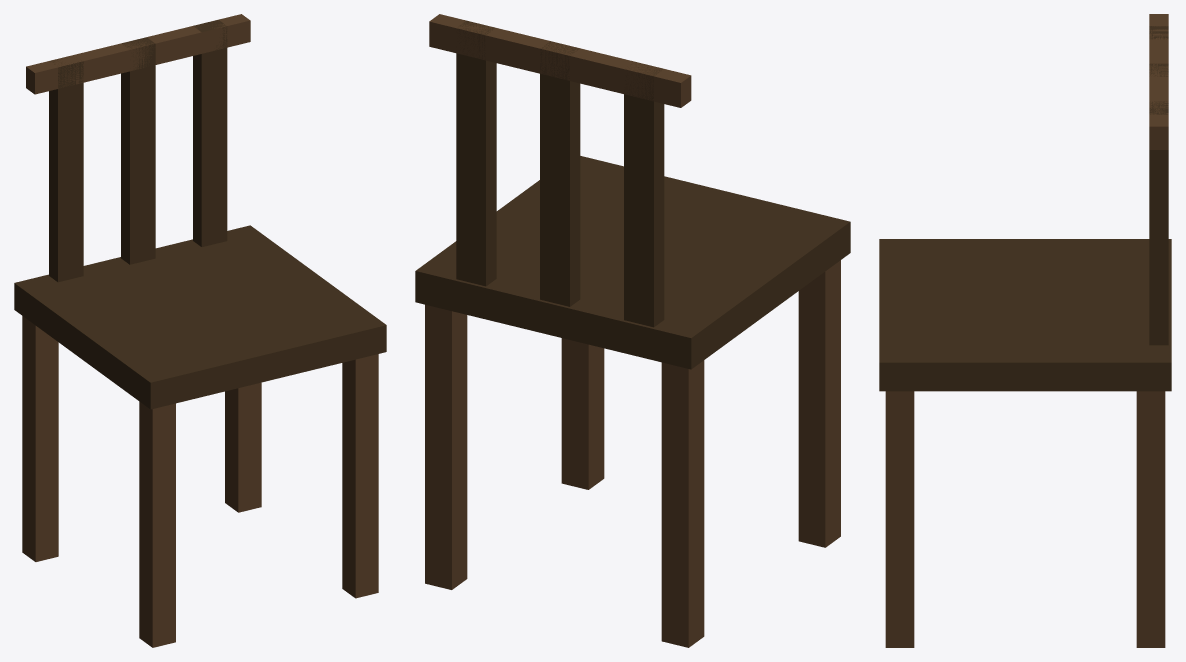
File: chair.glb
The picture shows the model from 3 angles, left to right: view 1: azimuth 30°, elevation 25°; view 2: azimuth 150°, elevation 25°; view 3: azimuth 270°, elevation 25°; orthographic projection. The views are drawn at different scales.
Size of the model in its own units: 0.46 by 0.9 by 0.46.
